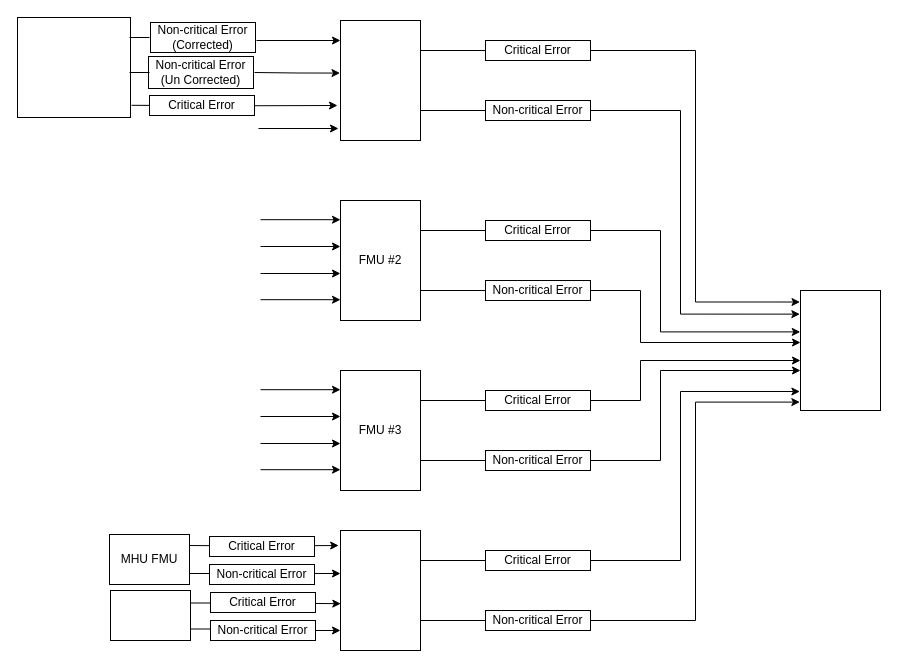
This 898x668 diagram has some shape labels left out. Here are the shapes that lost their labels. From the top down, the centre of each, then its label:
At pixel 73 67: "System Management Block NI-710AE".
At pixel 380 80: "FMU #1".
At pixel 840 350: "FMU #0 Root".
At pixel 380 590: "FMU #4".
At pixel 150 615: "GIC FMU".
